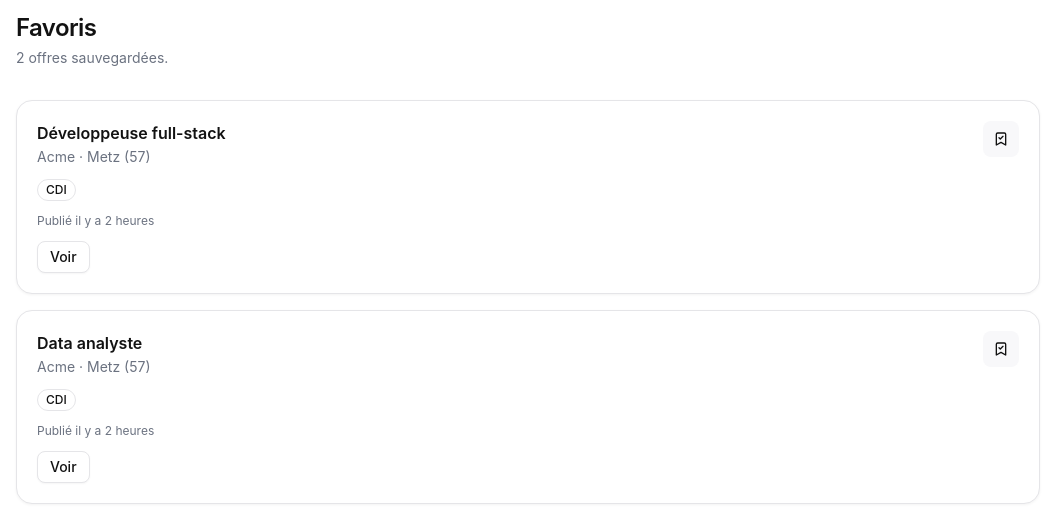
Test case: FavoritesPage › le retrait optimiste d_un favori retire sa carte de la liste
Expected: the link "Développeuse full-stack" is shown, left=37, top=123, right=226, bottom=143
Step 1. Click the button named "Retirer des favoris" in the row of "Développeuse full-stack" → (1001, 139), box left=983, top=121, right=1019, bottom=157
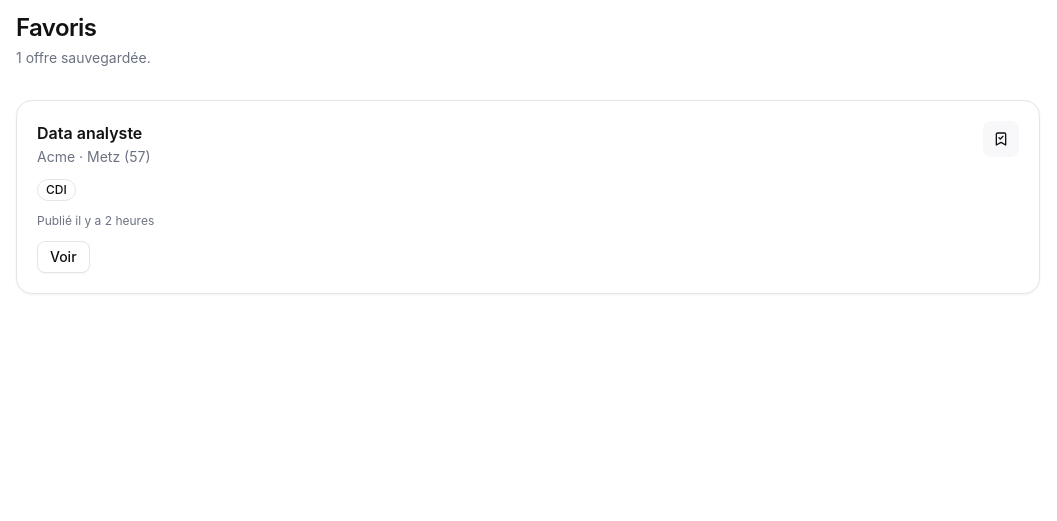
Expected: the link "Data analyste" is shown, left=37, top=123, right=142, bottom=143
Expected: the link "Développeuse full-stack" is gone
